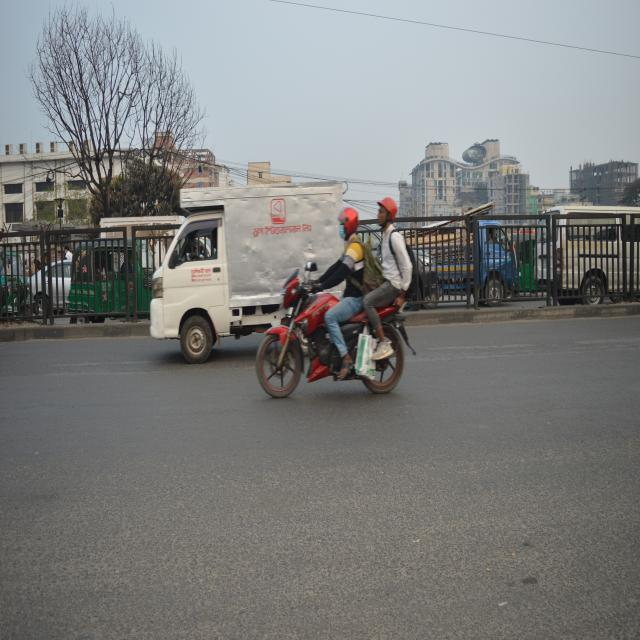car: (26, 245, 74, 322)
microbus: (536, 196, 640, 307)
motorbike: (249, 252, 420, 413)
pickup-van: (144, 172, 324, 372), (428, 205, 520, 307)
